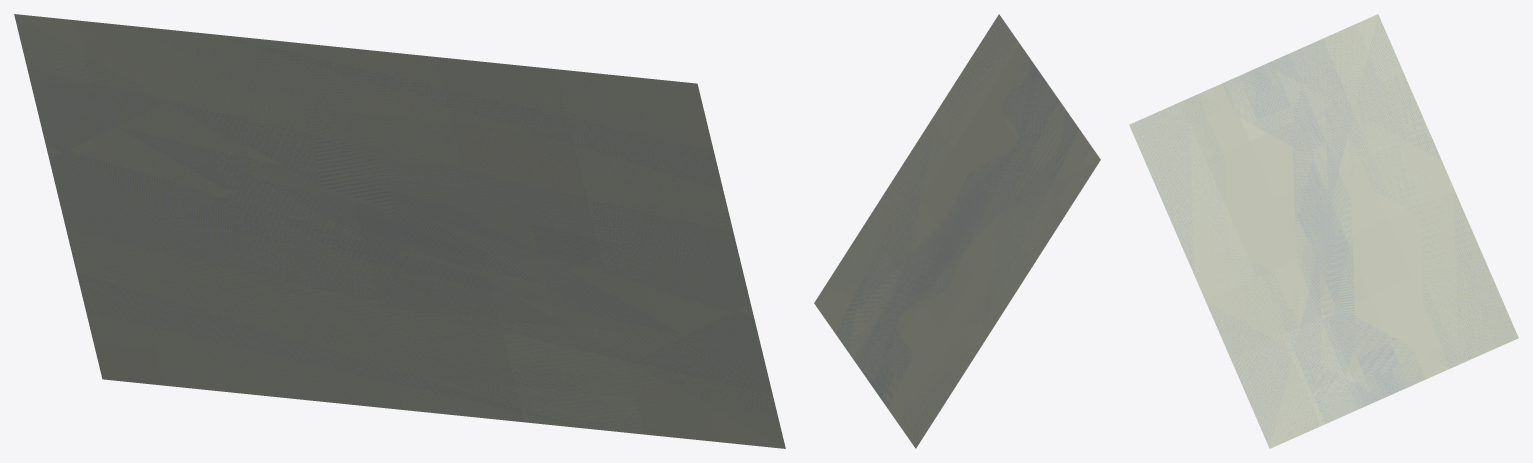
File: 人民英雄纪念碑208.dae
3 renders of one model, left to right at view 1: azimuth 30°, elevation 25°; view 2: azimuth 150°, elevation 25°; view 3: azimuth 270°, elevation 25°, orthographic. The views are drawn at different scales.
Visible parts, largest first — view 1: SketchUp; view 2: SketchUp; view 3: SketchUp.
Boxes of the visible parts, x1,y1,x2,y2 form: SketchUp: (14,14,785,448); SketchUp: (814,14,1100,448); SketchUp: (1129,14,1518,448).
Size of the model in its own units: 12.9 by 12.71 by 9.63.
